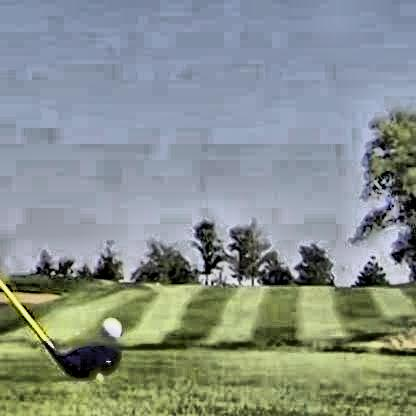golfball: (99, 315, 120, 337)
